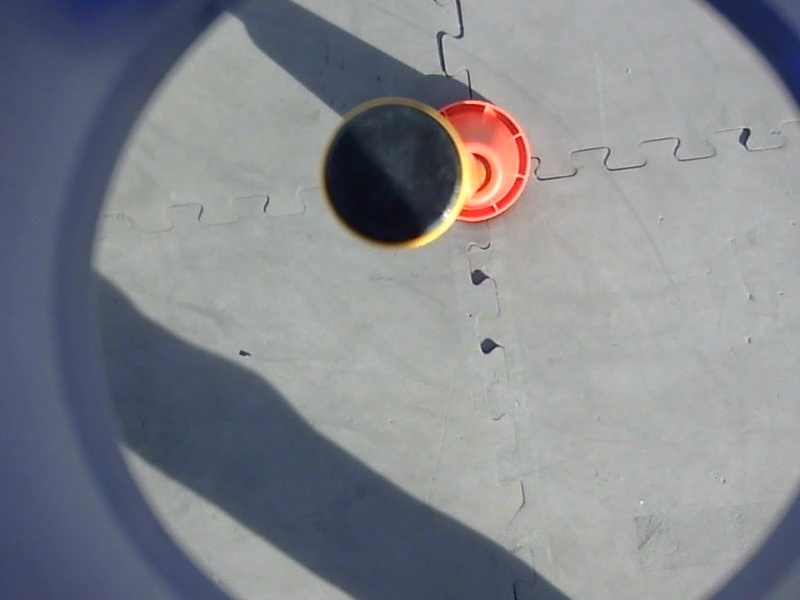tip: (304, 89, 477, 265)
